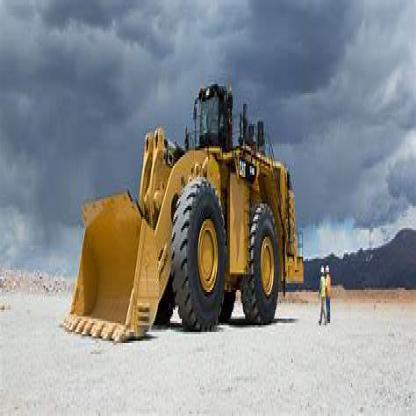bull_dozer/loader/grader: (55, 47, 308, 354)
